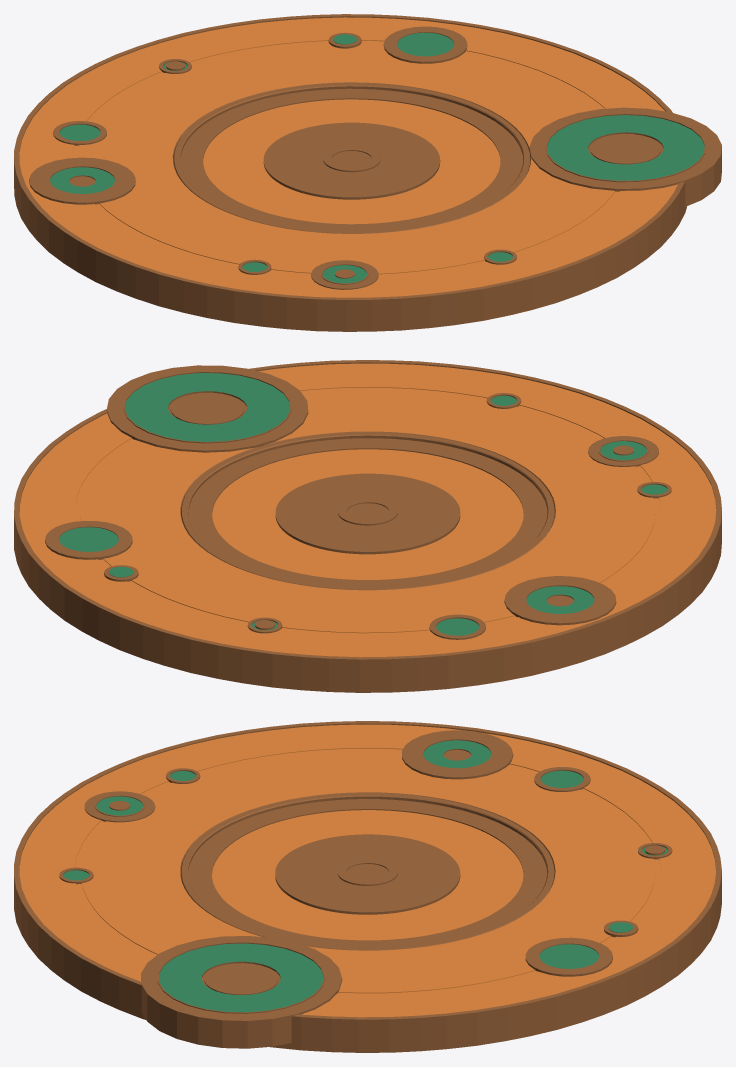
The model's file is fbx_Floor_Platform_Round_05.fbx.
The picture shows the model from 3 angles, top to bottom: view 1: azimuth 30°, elevation 25°; view 2: azimuth 150°, elevation 25°; view 3: azimuth 270°, elevation 25°; orthographic projection. The views are drawn at different scales.
Parts seen in each view (by area): view 1: Cylinder.023; view 2: Cylinder.023; view 3: Cylinder.023.
Boxes of the visible parts, bbox=[...] form: Cylinder.023: bbox=[14, 14, 721, 331]; Cylinder.023: bbox=[14, 360, 721, 692]; Cylinder.023: bbox=[14, 721, 721, 1052].
Size of the model in its own units: 2004 by 109 by 1993.
